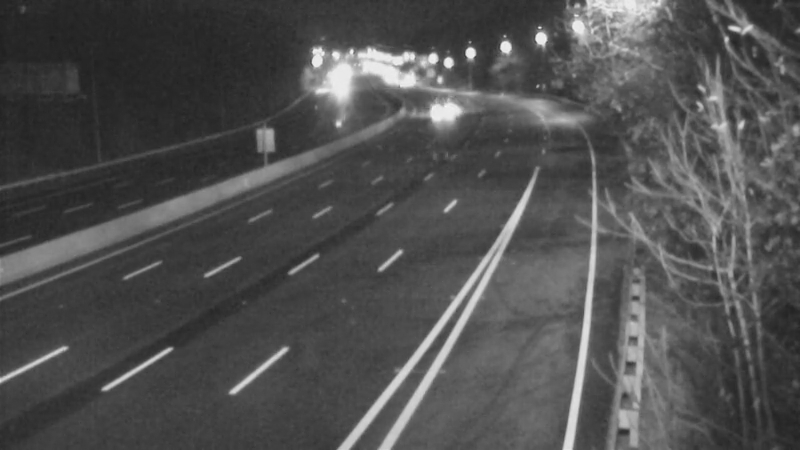vehicle: (414, 78, 464, 128)
